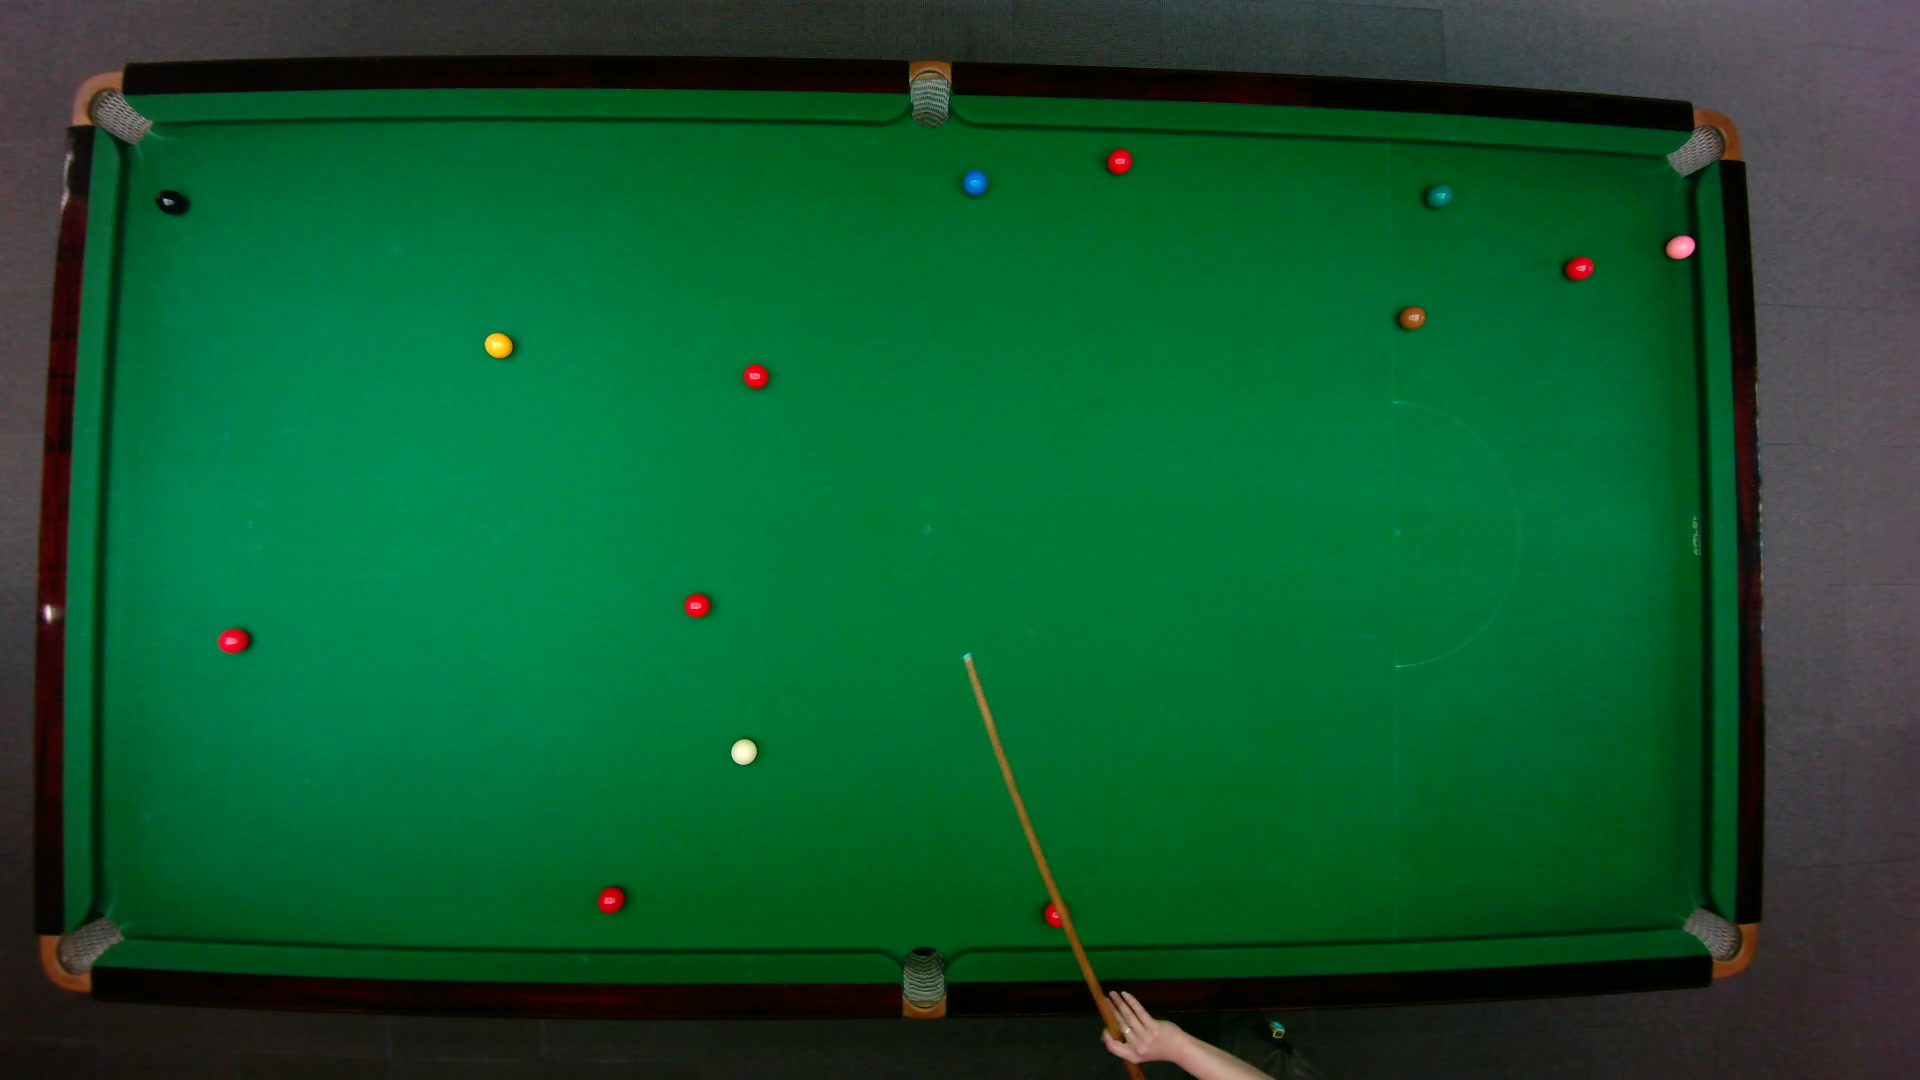bag: (37, 914, 125, 993), (69, 69, 152, 145), (1679, 905, 1756, 978), (1663, 107, 1741, 178), (899, 944, 944, 1021), (909, 57, 949, 128)
black: (154, 189, 186, 215)
blue: (961, 167, 988, 196)
brown: (1396, 305, 1427, 330)
cue: (963, 649, 1131, 1072)
green: (1423, 182, 1453, 208)
pink: (1663, 232, 1697, 260)
red: (215, 626, 251, 653), (595, 884, 625, 914), (1040, 901, 1071, 928), (1105, 146, 1133, 175), (1563, 255, 1594, 280), (682, 592, 709, 618), (741, 363, 769, 389)
white: (728, 736, 758, 765)
yellow: (481, 330, 513, 359)
zone: (1390, 398, 1520, 669)
